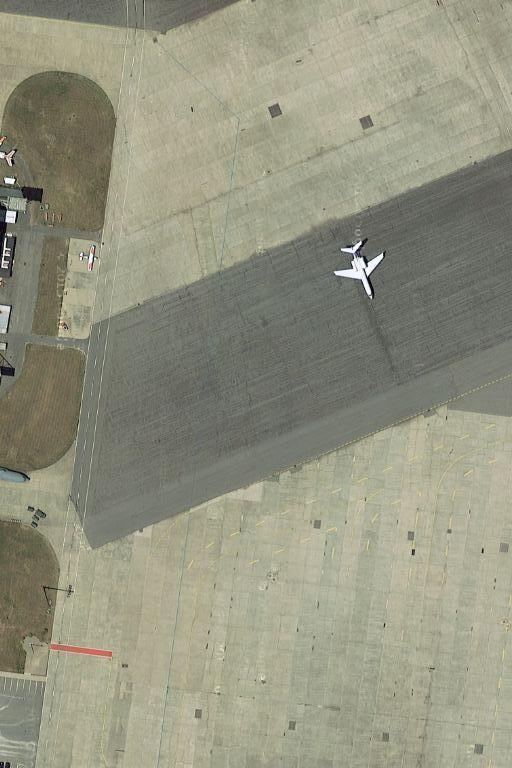plane: (333, 235, 389, 304)
